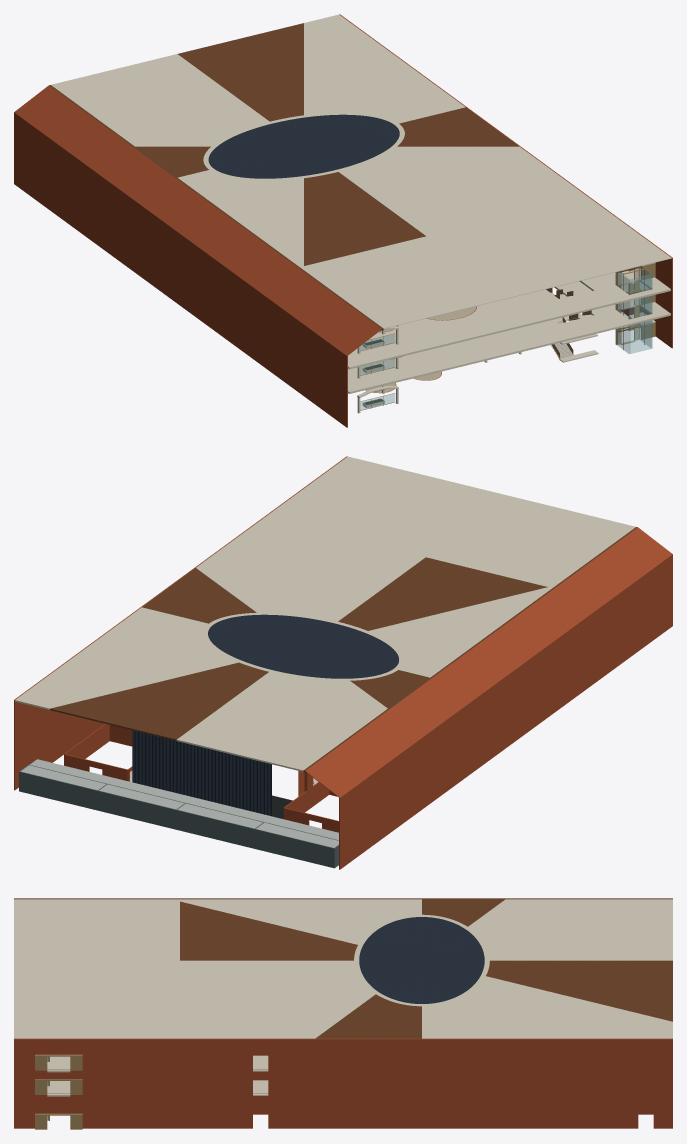
The model's file is AST-CUL-005_static_003.glb.
3 views of the same model, one above another, from view 1: azimuth 30°, elevation 25°; view 2: azimuth 150°, elevation 25°; view 3: azimuth 270°, elevation 25° (orthographic).
Visible parts, largest first — view 1: C005_S_0468, C005_S_0471, C005_S_0141, C005_S_0157, C005_S_0004, C005_S_0001, C005_S_0154, C005_S_0097, C005_S_0134, C005_S_0106, C005_S_0129, C005_S_0641 (+34 smaller); view 2: C005_S_0471, C005_S_0468, C005_S_0157, C005_S_0141, C005_S_0004, C005_S_0001, C005_S_0097, C005_S_0154, C005_S_0134, C005_S_0106, C005_S_0129, C005_S_0126 (+40 smaller); view 3: C005_S_0141, C005_S_0157, C005_S_0423, C005_S_0424, C005_S_0425, C005_S_0422, C005_S_0097, C005_S_0154, C005_S_0106, C005_S_0134, C005_S_0433, C005_S_0434 (+37 smaller).
Boxes of the visible parts, x1,y1,x2,y2 form: C005_S_0468: (15, 185, 346, 427); C005_S_0471: (14, 112, 344, 354); C005_S_0141: (300, 197, 671, 267); C005_S_0157: (300, 258, 671, 328); C005_S_0004: (15, 113, 381, 355); C005_S_0001: (14, 85, 379, 327); C005_S_0154: (51, 54, 239, 130); C005_S_0097: (178, 23, 303, 114); C005_S_0134: (369, 162, 547, 236); C005_S_0106: (304, 178, 425, 265); C005_S_0129: (304, 23, 411, 112); C005_S_0641: (348, 310, 576, 367); C005_S_0471: (340, 555, 671, 869); C005_S_0468: (341, 554, 672, 868); C005_S_0157: (348, 456, 635, 587); C005_S_0141: (264, 456, 551, 587); C005_S_0004: (341, 527, 672, 796); C005_S_0001: (305, 528, 636, 797); C005_S_0097: (50, 662, 238, 739); C005_S_0154: (177, 678, 303, 770); C005_S_0134: (303, 527, 425, 614); C005_S_0106: (368, 557, 547, 630); C005_S_0129: (50, 646, 225, 708); C005_S_0126: (196, 527, 303, 612); C005_S_0141: (14, 899, 179, 1038); C005_S_0157: (14, 899, 179, 1038); C005_S_0423: (268, 1038, 637, 1093); C005_S_0424: (270, 1080, 638, 1128); C005_S_0425: (270, 1038, 638, 1080); C005_S_0422: (268, 1094, 635, 1128); C005_S_0097: (486, 960, 672, 1021); C005_S_0154: (486, 899, 672, 960); C005_S_0106: (180, 901, 357, 960); C005_S_0134: (180, 960, 357, 1019); C005_S_0433: (70, 1038, 252, 1092); C005_S_0434: (81, 1080, 252, 1128).
Size of the model in its own units: 83.65 by 22.45 by 147.
Materials: 24 (20 with a texture image).
